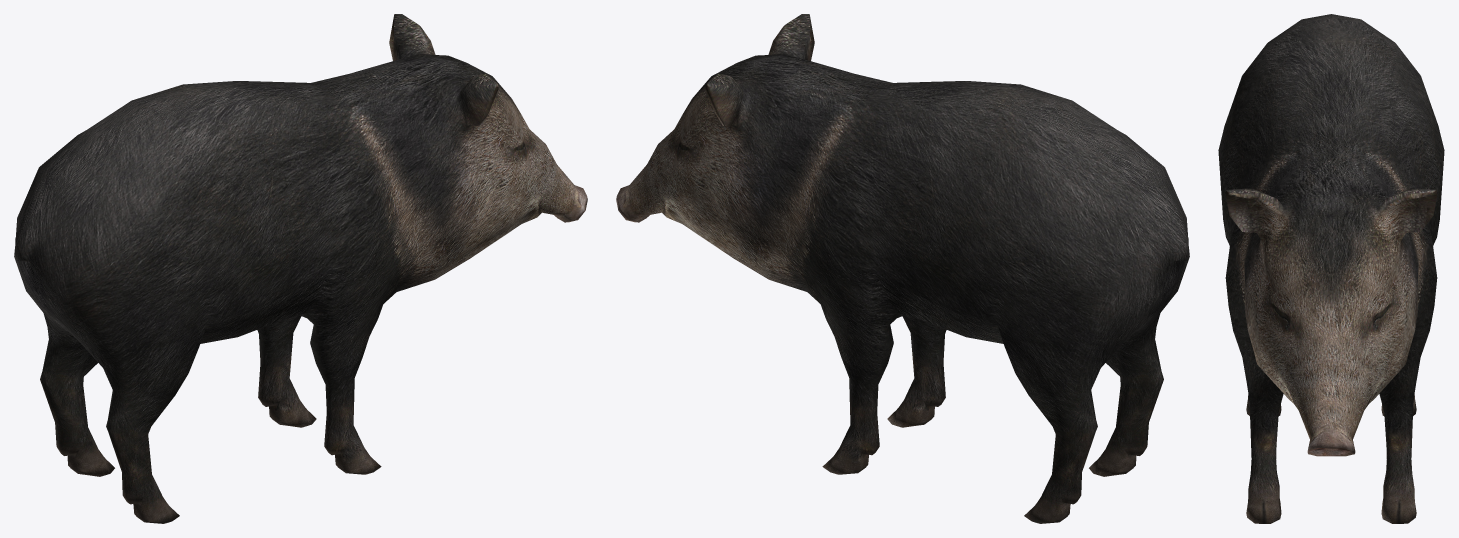
Rendered from DANTA.glb.
3 views of the same model, side by side, from view 1: azimuth 30°, elevation 25°; view 2: azimuth 150°, elevation 25°; view 3: azimuth 270°, elevation 25° (orthographic). The views are drawn at different scales.
Parts seen in each view (by area): view 1: Collared_Peccary_0; view 2: Collared_Peccary_0; view 3: Collared_Peccary_0.
Boxes of the visible parts, x1,y1,x2,y2 form: Collared_Peccary_0: (14,14,587,523); Collared_Peccary_0: (616,14,1189,523); Collared_Peccary_0: (1218,14,1444,523).
Bounding box in the file's own units: 100 × 65.45 × 32.95.
1 material, 1 textured.
